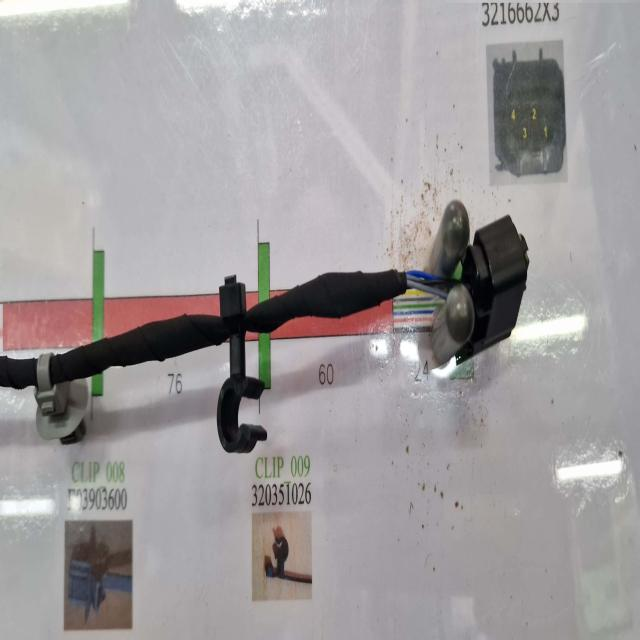Clip: (217, 271, 267, 453), (33, 353, 87, 445)
Connector: (456, 211, 531, 360)
Gape: (395, 252, 476, 336)
MHEV_N11_Cable: (13, 266, 412, 454)
